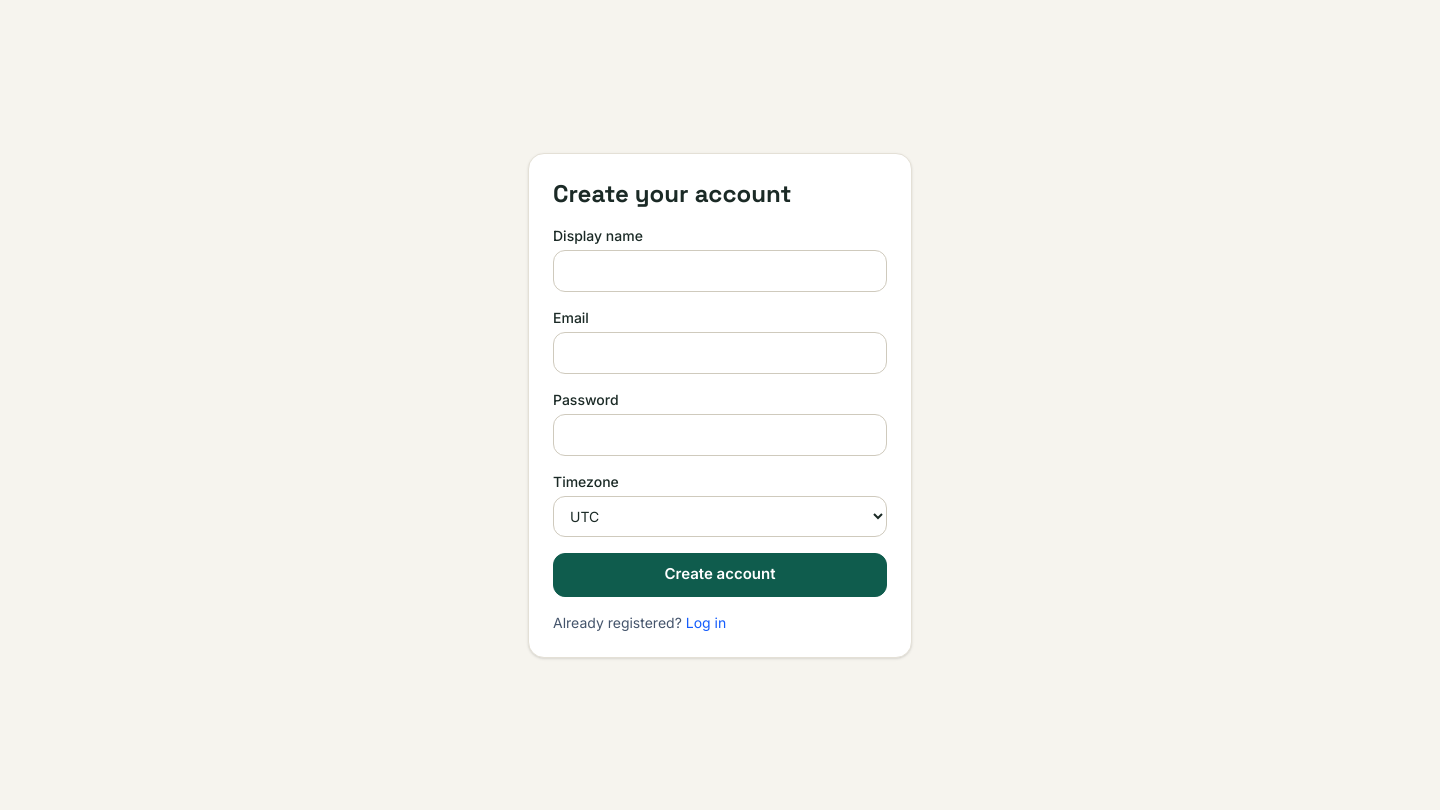
authentication screens › registers a new account and signs in
The image size is (1440, 810).
Type "Alex" into the field labelled "Display name" at (720, 270), box top-left (553, 250), bottom-right (887, 292)
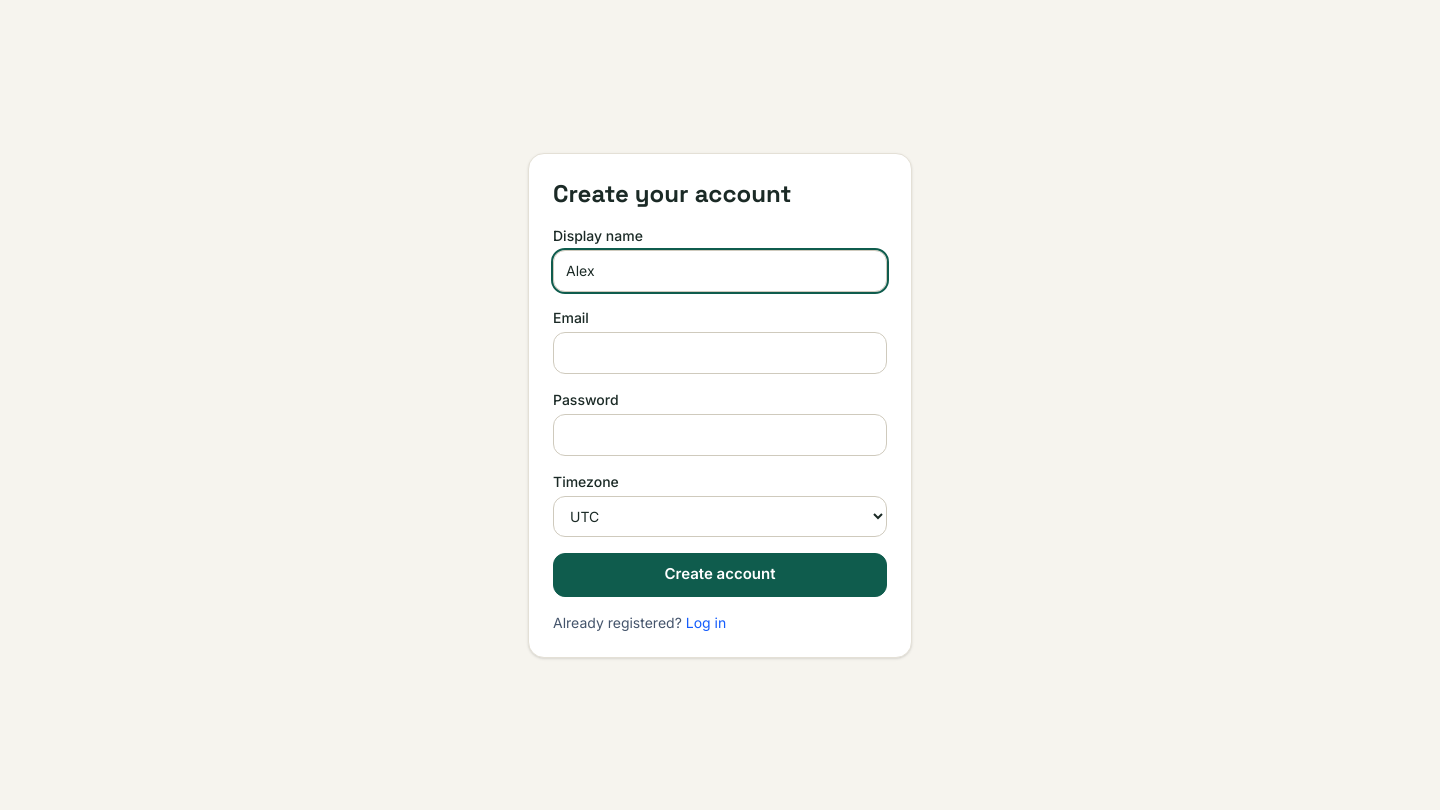
Type "alex@example.com" into the field labelled "Email" at (720, 352), box top-left (553, 332), bottom-right (887, 374)
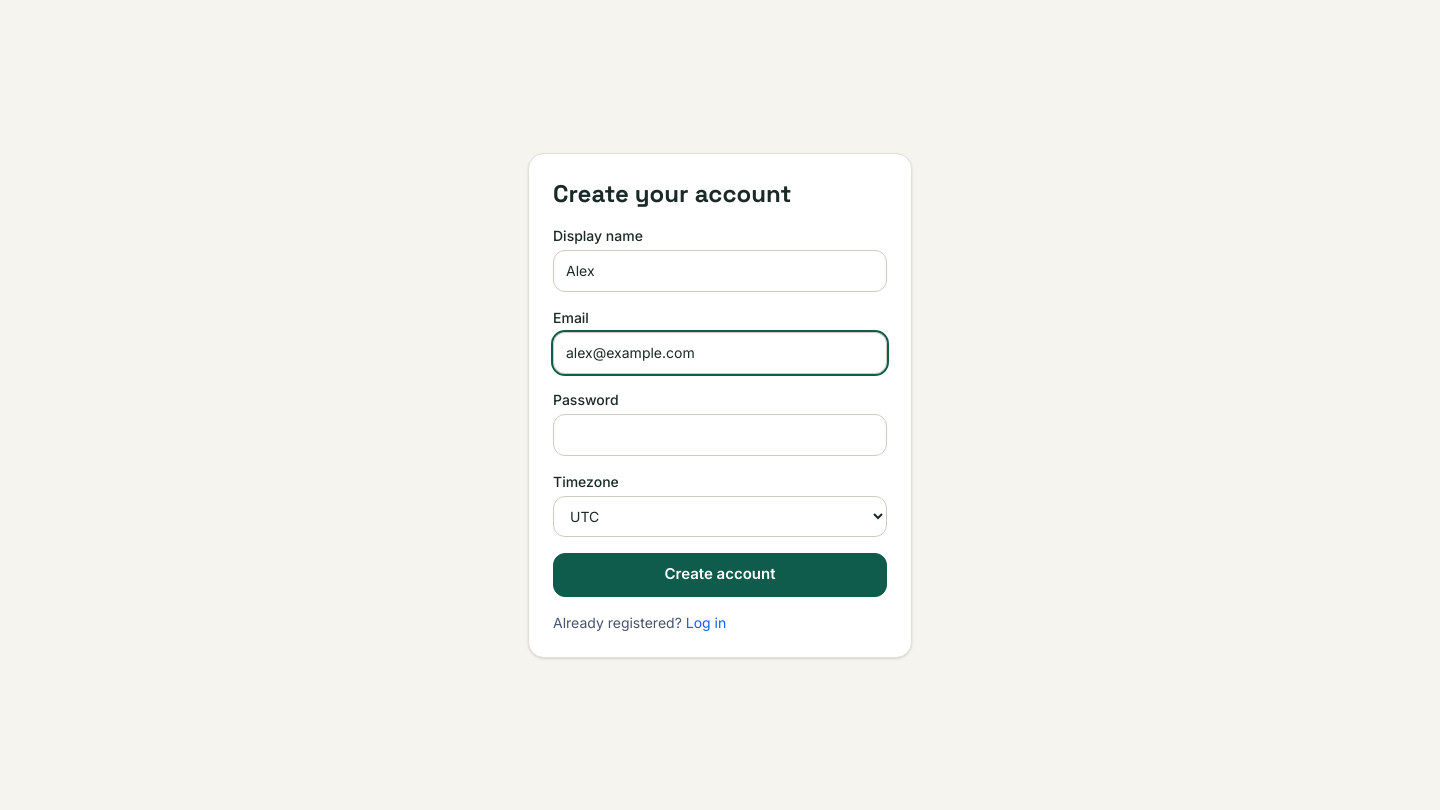
Type "S3cret-pass" into the password field labelled "Password" at (720, 434), box top-left (553, 414), bottom-right (887, 456)
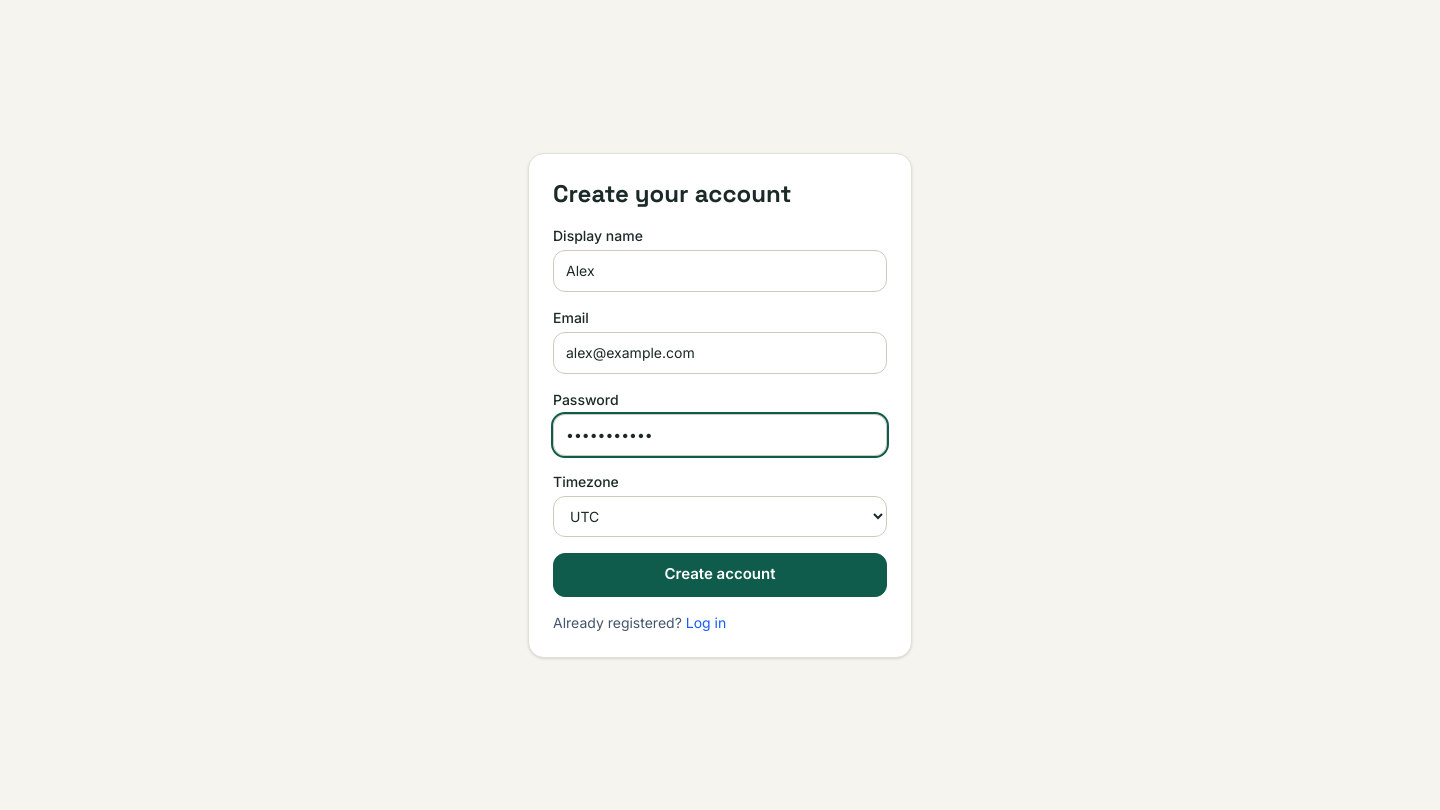
Click the button "Create account" at (720, 574), box top-left (553, 552), bottom-right (887, 596)
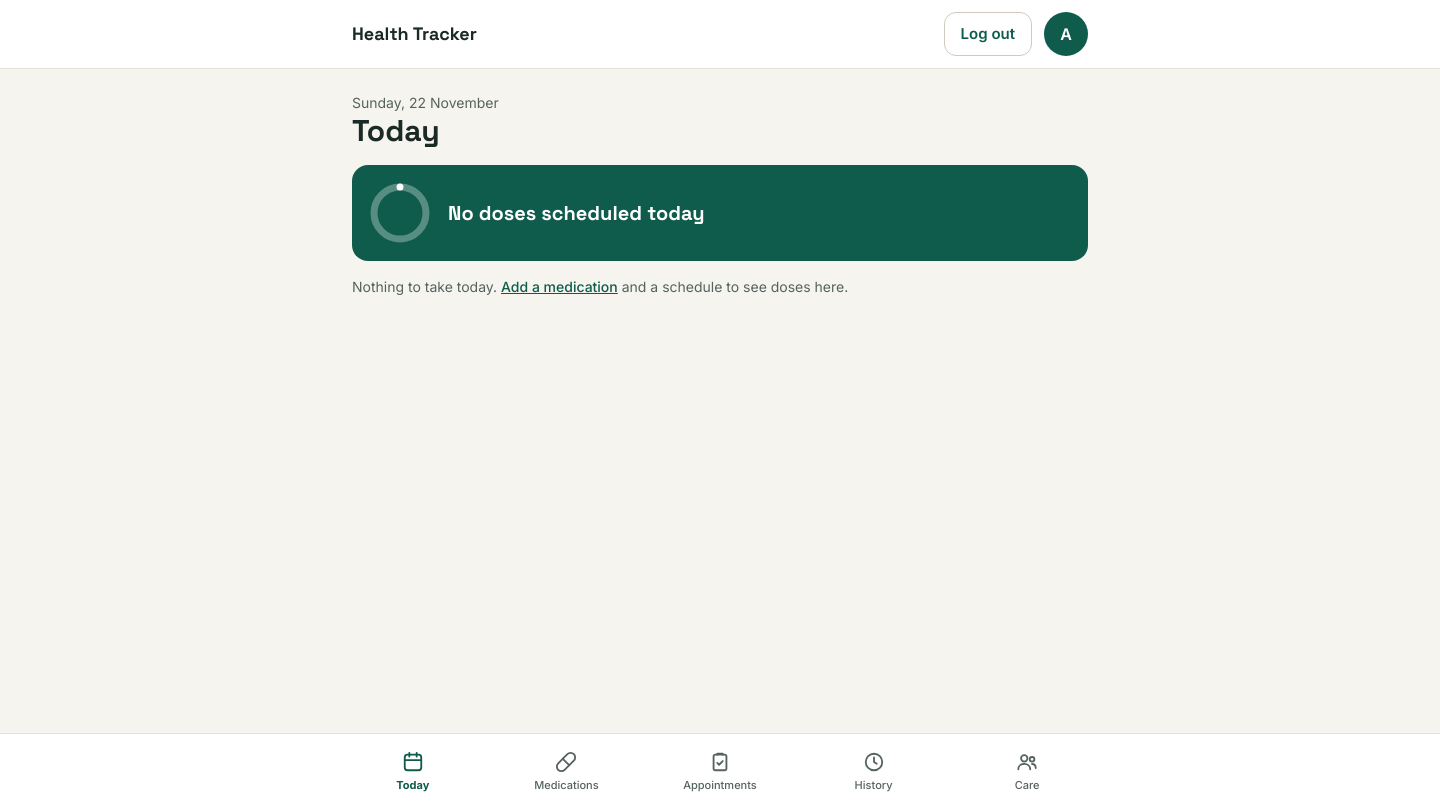
Check: the heading "Today" is shown, box top-left (352, 111), bottom-right (440, 150)
